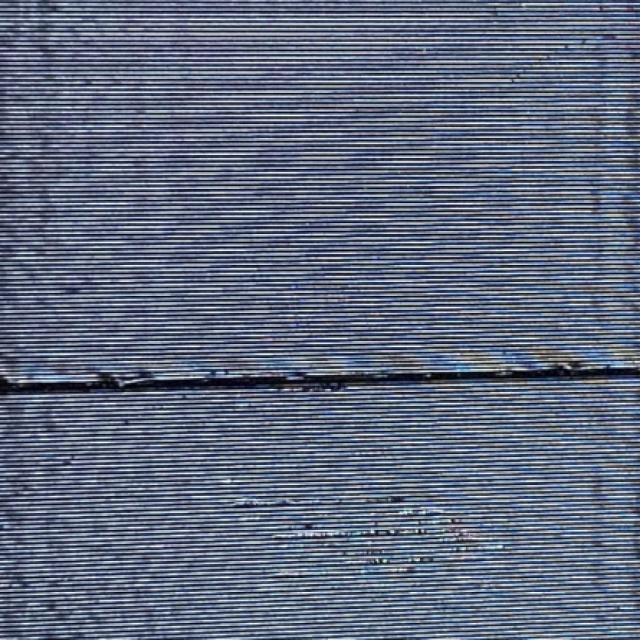Warping: (2, 352, 640, 417)
